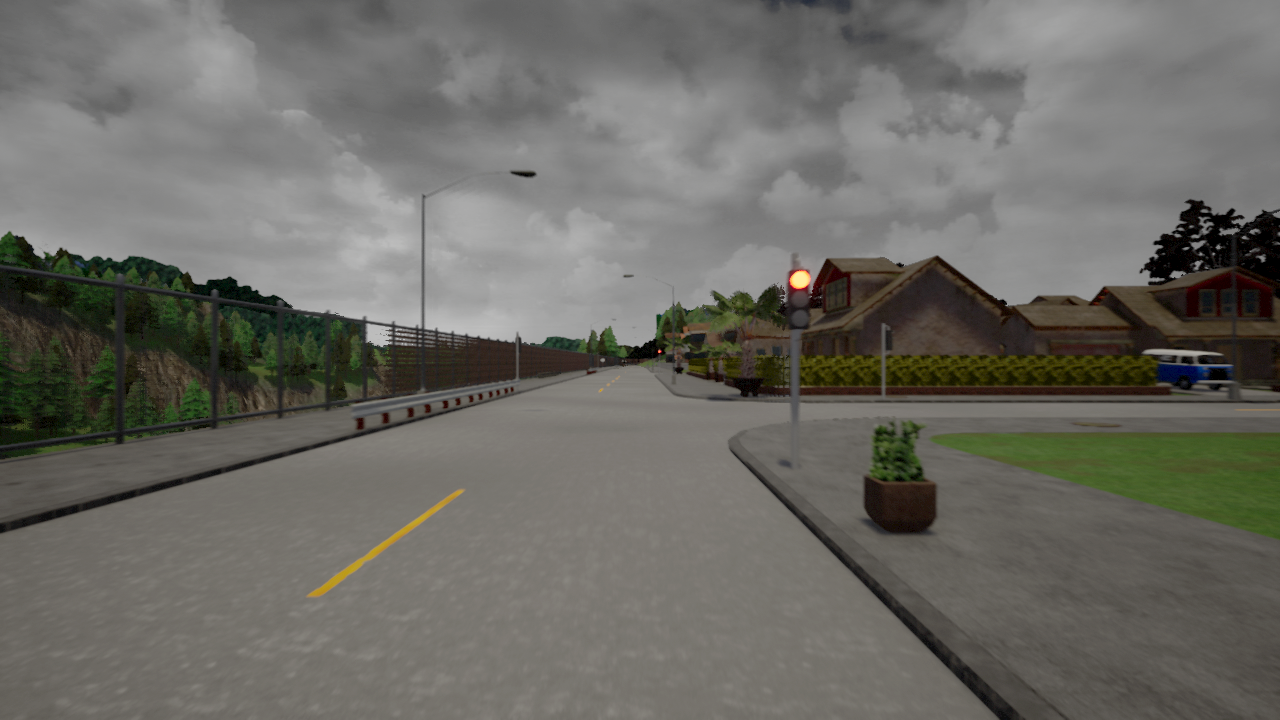red: (786, 269, 811, 330)
